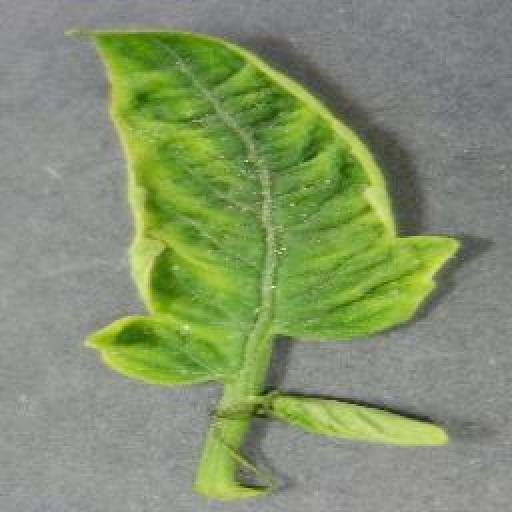disease_tomato: (76, 23, 462, 385), (275, 394, 447, 452)
